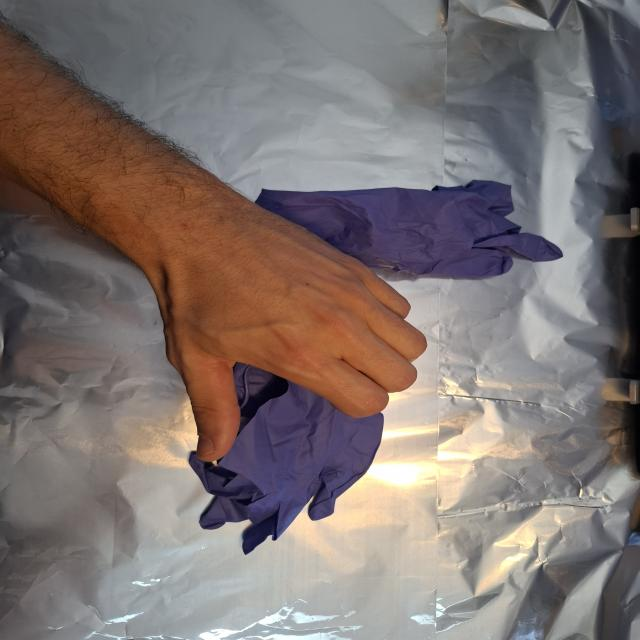glove_off: (148, 212, 430, 463)
